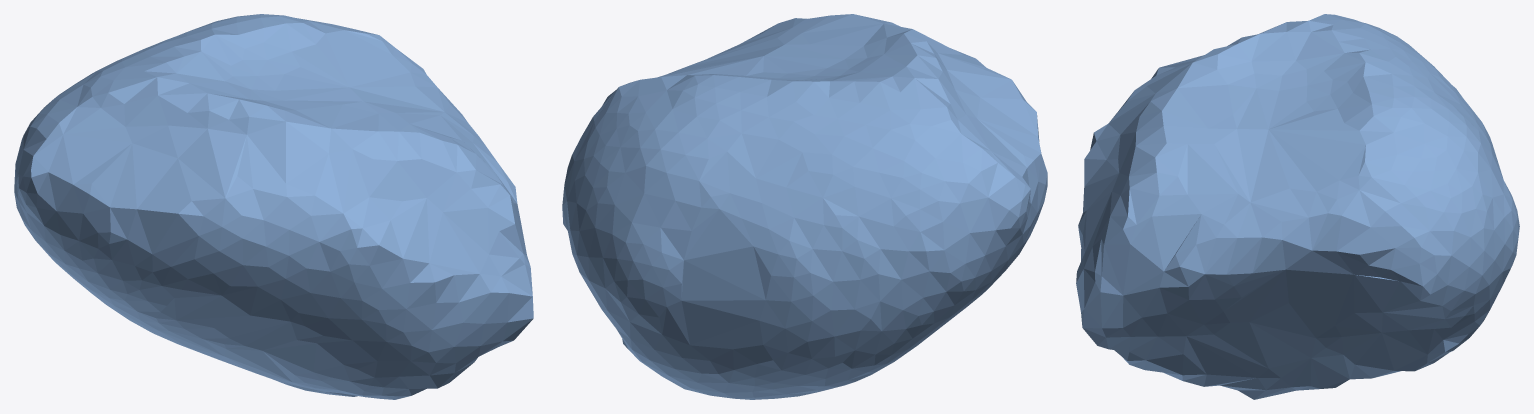
File: Model_317_RH__Ventral_posteromedial_thalamic_nucleus_(VPM).obj
3 views of the same model, side by side, from view 1: azimuth 30°, elevation 25°; view 2: azimuth 150°, elevation 25°; view 3: azimuth 270°, elevation 25° (orthographic). The views are drawn at different scales.
Bounding box in the file's own units: 1.56 × 1.2 × 1.58.
